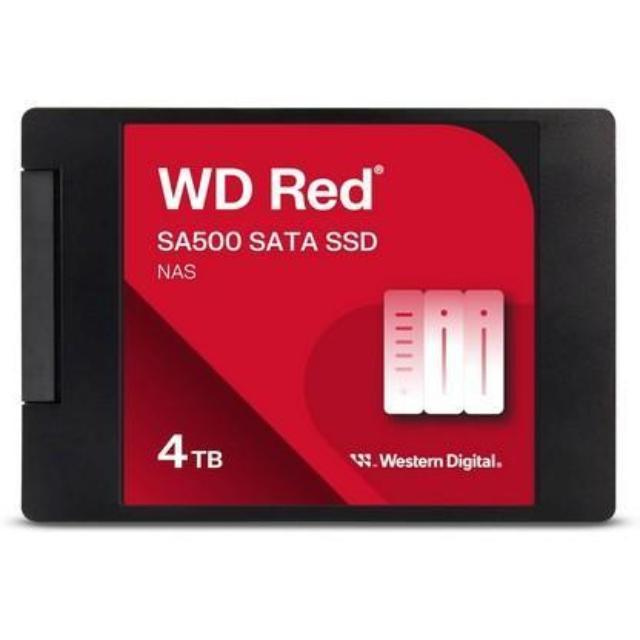DISK: (6, 95, 623, 540)
